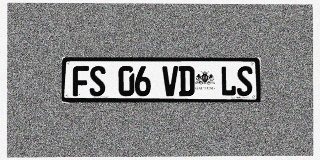0: (118, 66, 134, 96)
6: (135, 66, 151, 96)
D: (179, 66, 194, 96)
F: (73, 66, 89, 96)
L: (220, 66, 236, 96)
S: (89, 66, 105, 96), (237, 66, 252, 96)
V: (162, 66, 178, 96)
